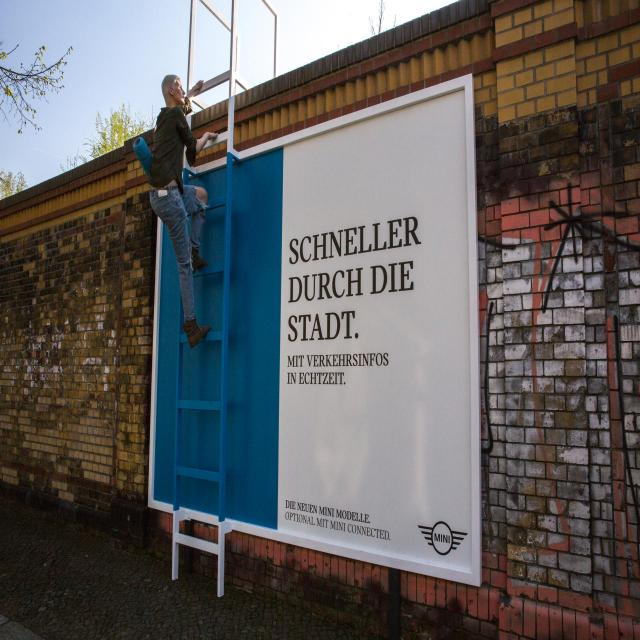Werbetafel frei: (138, 74, 486, 590)
